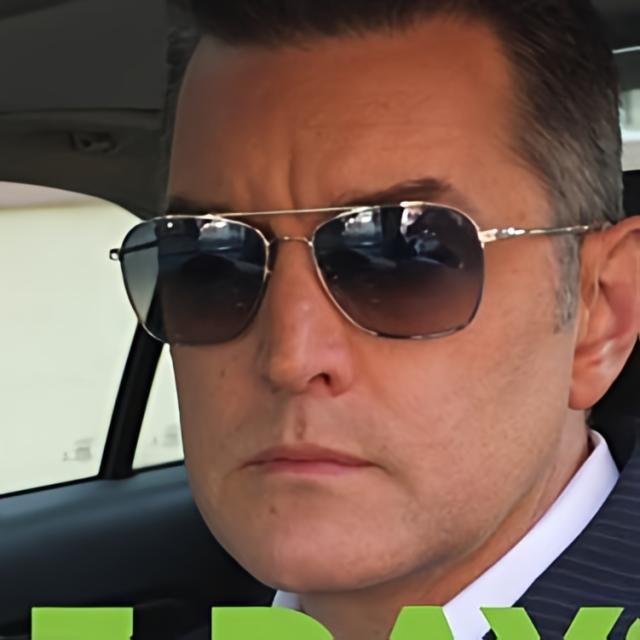anger: (164, 130, 554, 594)
